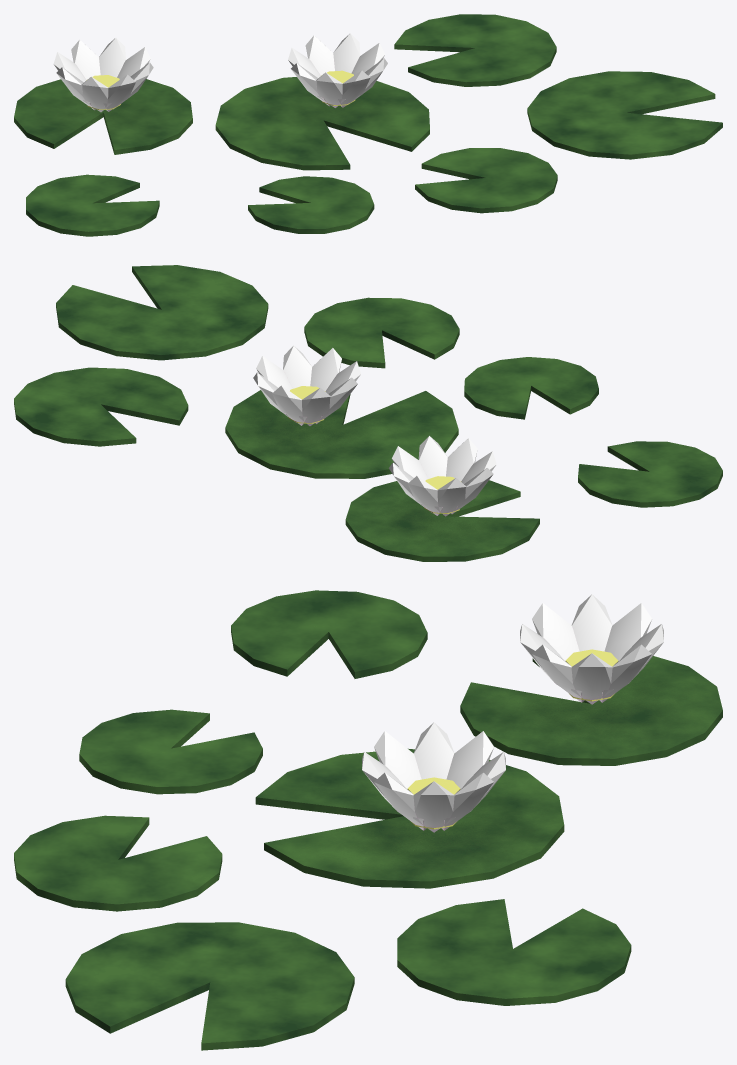
The model's file is lily_pads.fbx.
The picture shows the model from 3 angles, top to bottom: view 1: azimuth 30°, elevation 25°; view 2: azimuth 150°, elevation 25°; view 3: azimuth 270°, elevation 25°; orthographic projection. The views are drawn at different scales.
Parts seen in each view (by area): view 1: lily_pads; view 2: lily_pads; view 3: lily_pads.
Boxes of the visible parts, x1,y1,x2,y2 form: lily_pads: [14, 14, 722, 236]; lily_pads: [14, 265, 722, 561]; lily_pads: [14, 590, 722, 1050].
Bounding box in the file's own units: 814 × 73.43 × 538.
Materials: 1 (1 with a texture image).
